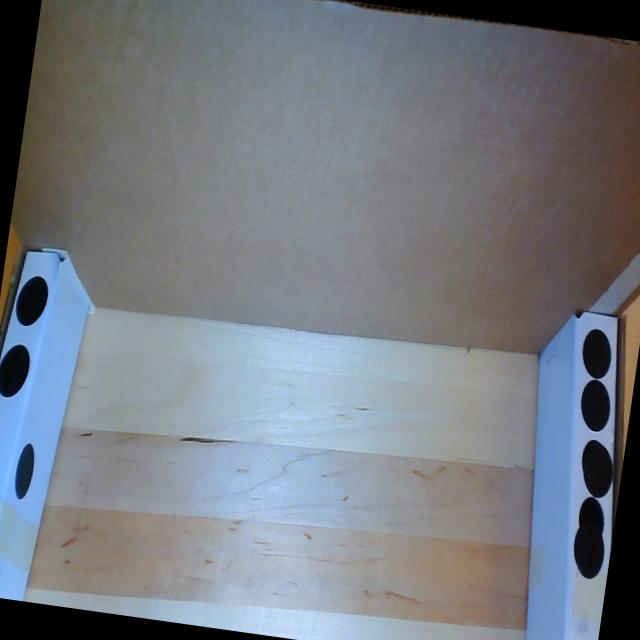Hole: (574, 494, 610, 542), (580, 436, 608, 478)
Sticker: (12, 270, 52, 332), (576, 375, 616, 435), (569, 524, 609, 582), (578, 323, 617, 382), (0, 338, 33, 403), (582, 443, 618, 499), (11, 442, 39, 504)
